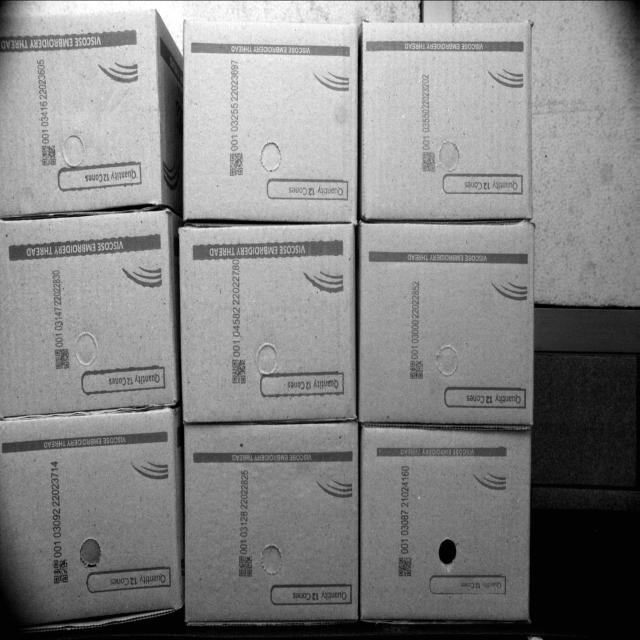cardboxes: (0, 417, 181, 624), (185, 15, 358, 224), (360, 224, 538, 426), (0, 210, 179, 408), (362, 17, 536, 220), (177, 223, 357, 417), (184, 19, 356, 217), (361, 23, 532, 220), (360, 426, 531, 621), (186, 422, 356, 616), (0, 11, 163, 204)
